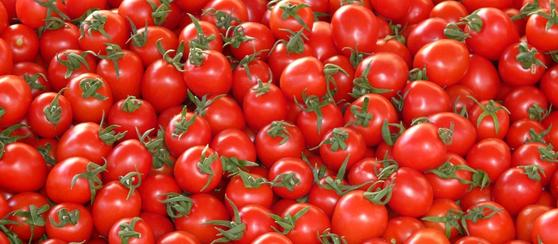tomato: (183, 41, 232, 97), (319, 128, 366, 165), (109, 98, 157, 133)
